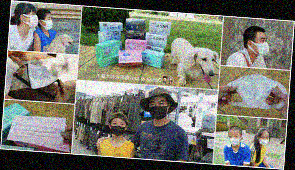with_mask: (147, 99, 169, 121), (252, 36, 271, 57), (110, 119, 126, 137), (24, 12, 39, 28), (227, 133, 241, 147), (42, 16, 53, 31), (259, 134, 270, 147)
